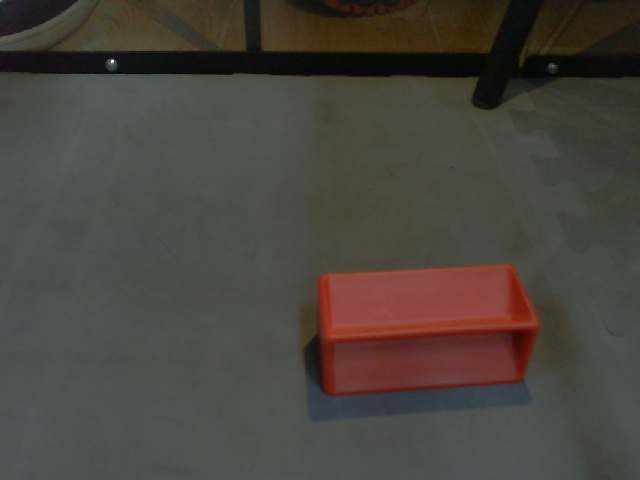RedSample: (309, 260, 543, 401)
